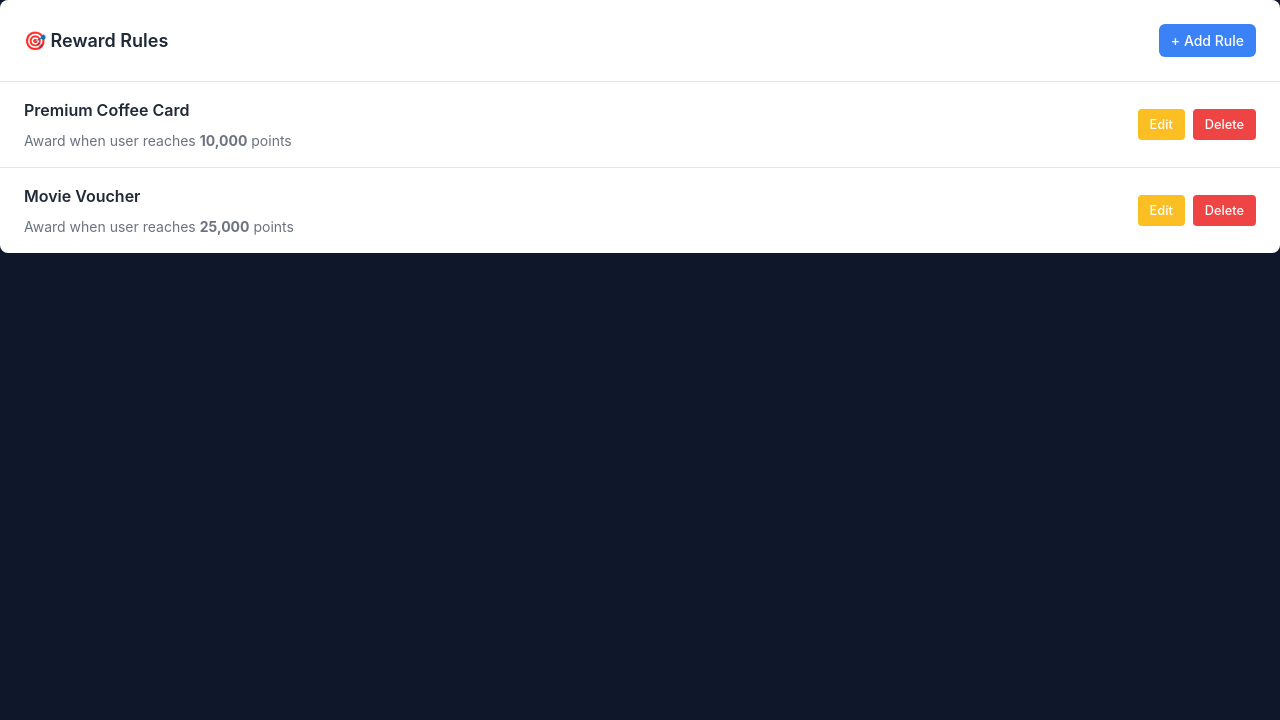
Test: GiftRulesPanel › displays rule form when add rule button clicked
Step 1. Click the button "+ Add Rule" → point(1207, 40), box [1159,24,1256,57]
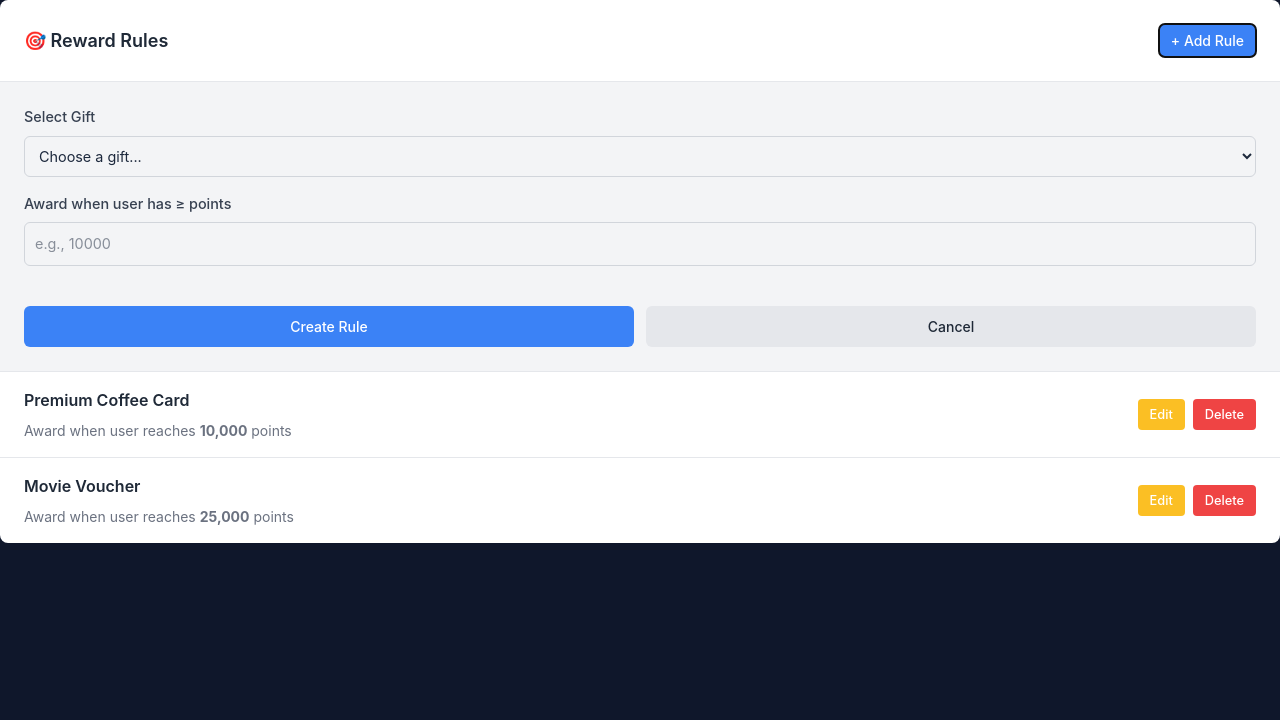
Now the element with class "rule-form" is shown, box [0,82,1279,372]
